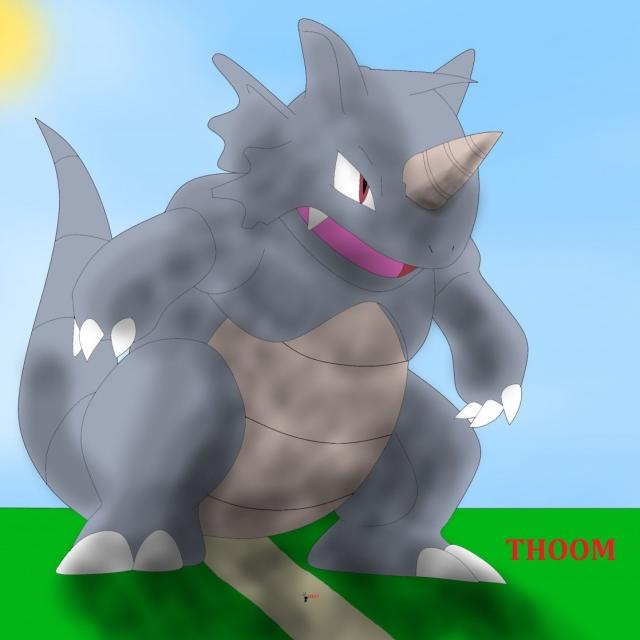Rhydon: (74, 48, 503, 590)
